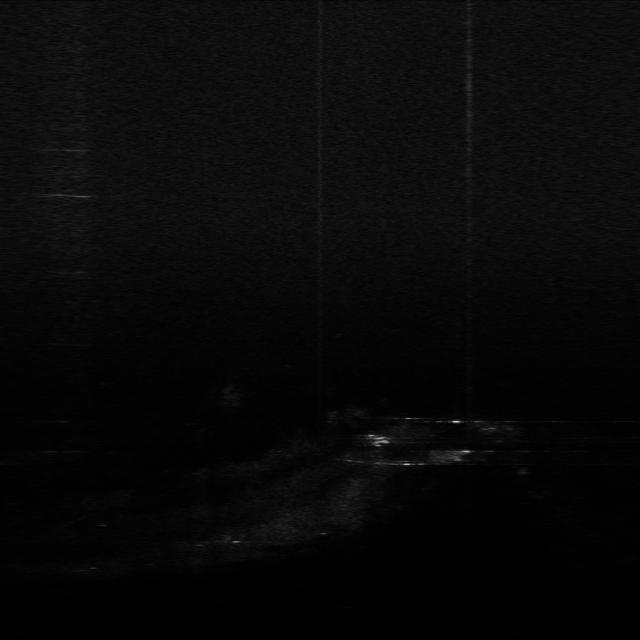rov: (366, 432, 394, 451)
